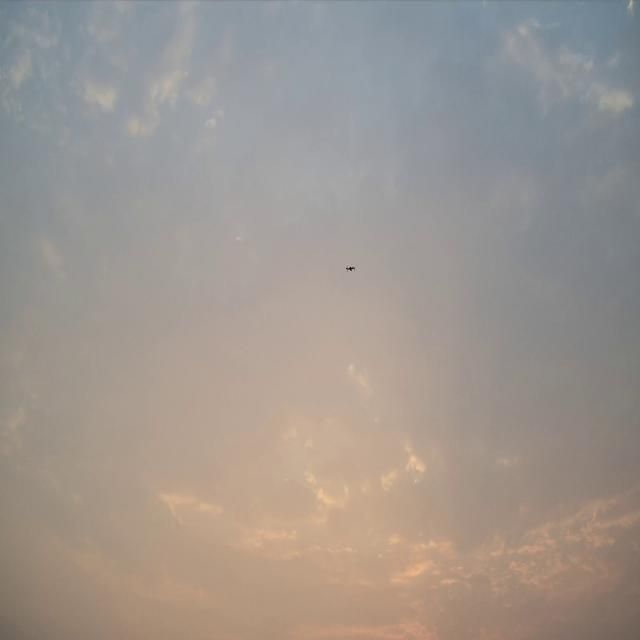UAV: (345, 265, 356, 272)
